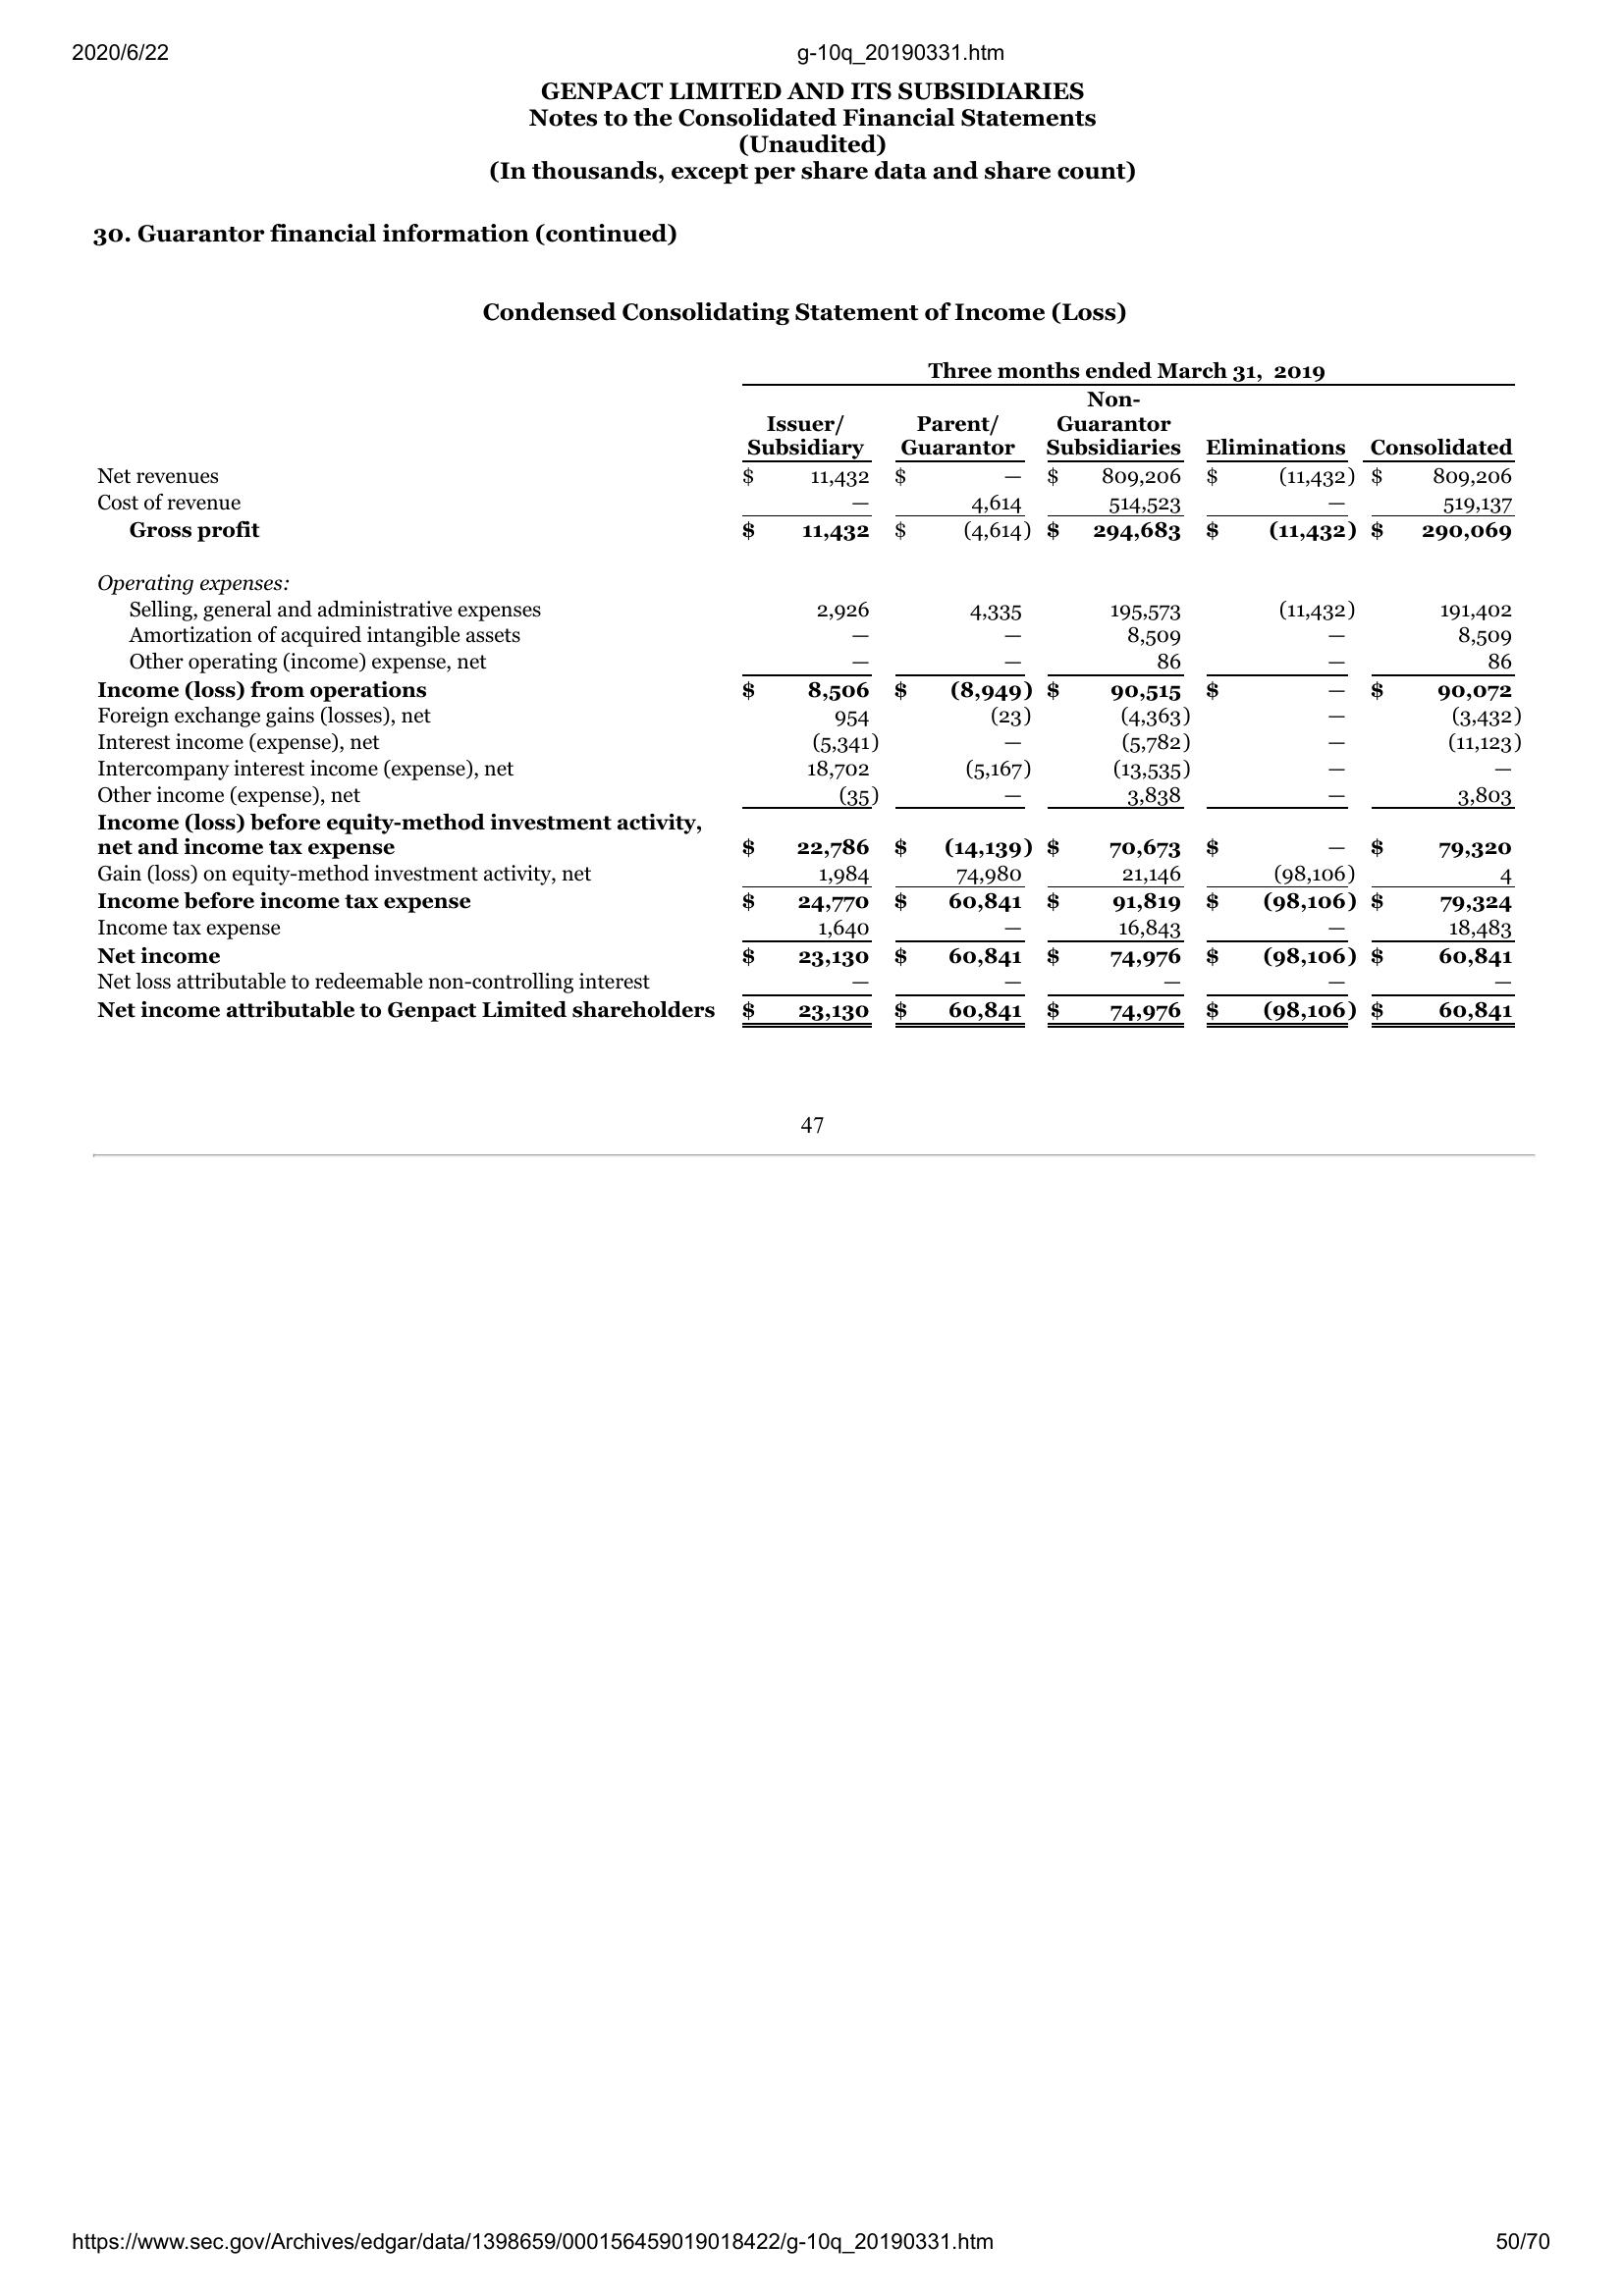table: (88, 353, 1519, 1032)
